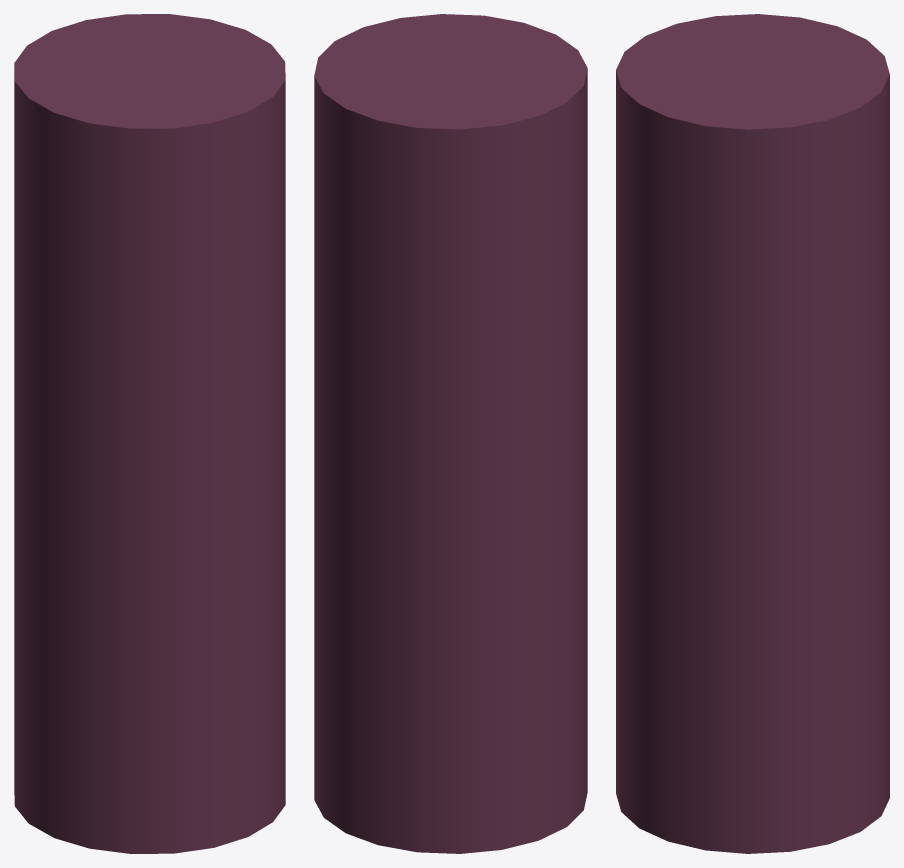
The picture shows the model from 3 angles, left to right: view 1: azimuth 30°, elevation 25°; view 2: azimuth 150°, elevation 25°; view 3: azimuth 270°, elevation 25°; orthographic projection.
Parts seen in each view (by area): view 1: pCylinder4; view 2: pCylinder4; view 3: pCylinder4.
Boxes of the visible parts, box(x1,y1,x2,y2) form: pCylinder4: box(14, 14, 285, 853); pCylinder4: box(314, 14, 587, 853); pCylinder4: box(616, 14, 889, 853).
Bounding box in the file's own units: 23.77 × 69.42 × 23.77.
